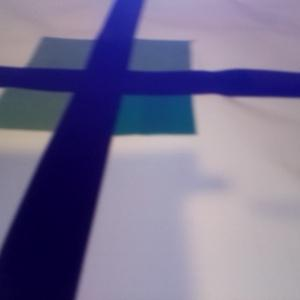bottom_left: (1, 69, 112, 131)
bottom_right: (72, 70, 195, 134)
top_left: (28, 38, 127, 90)
top_right: (93, 39, 190, 94)
